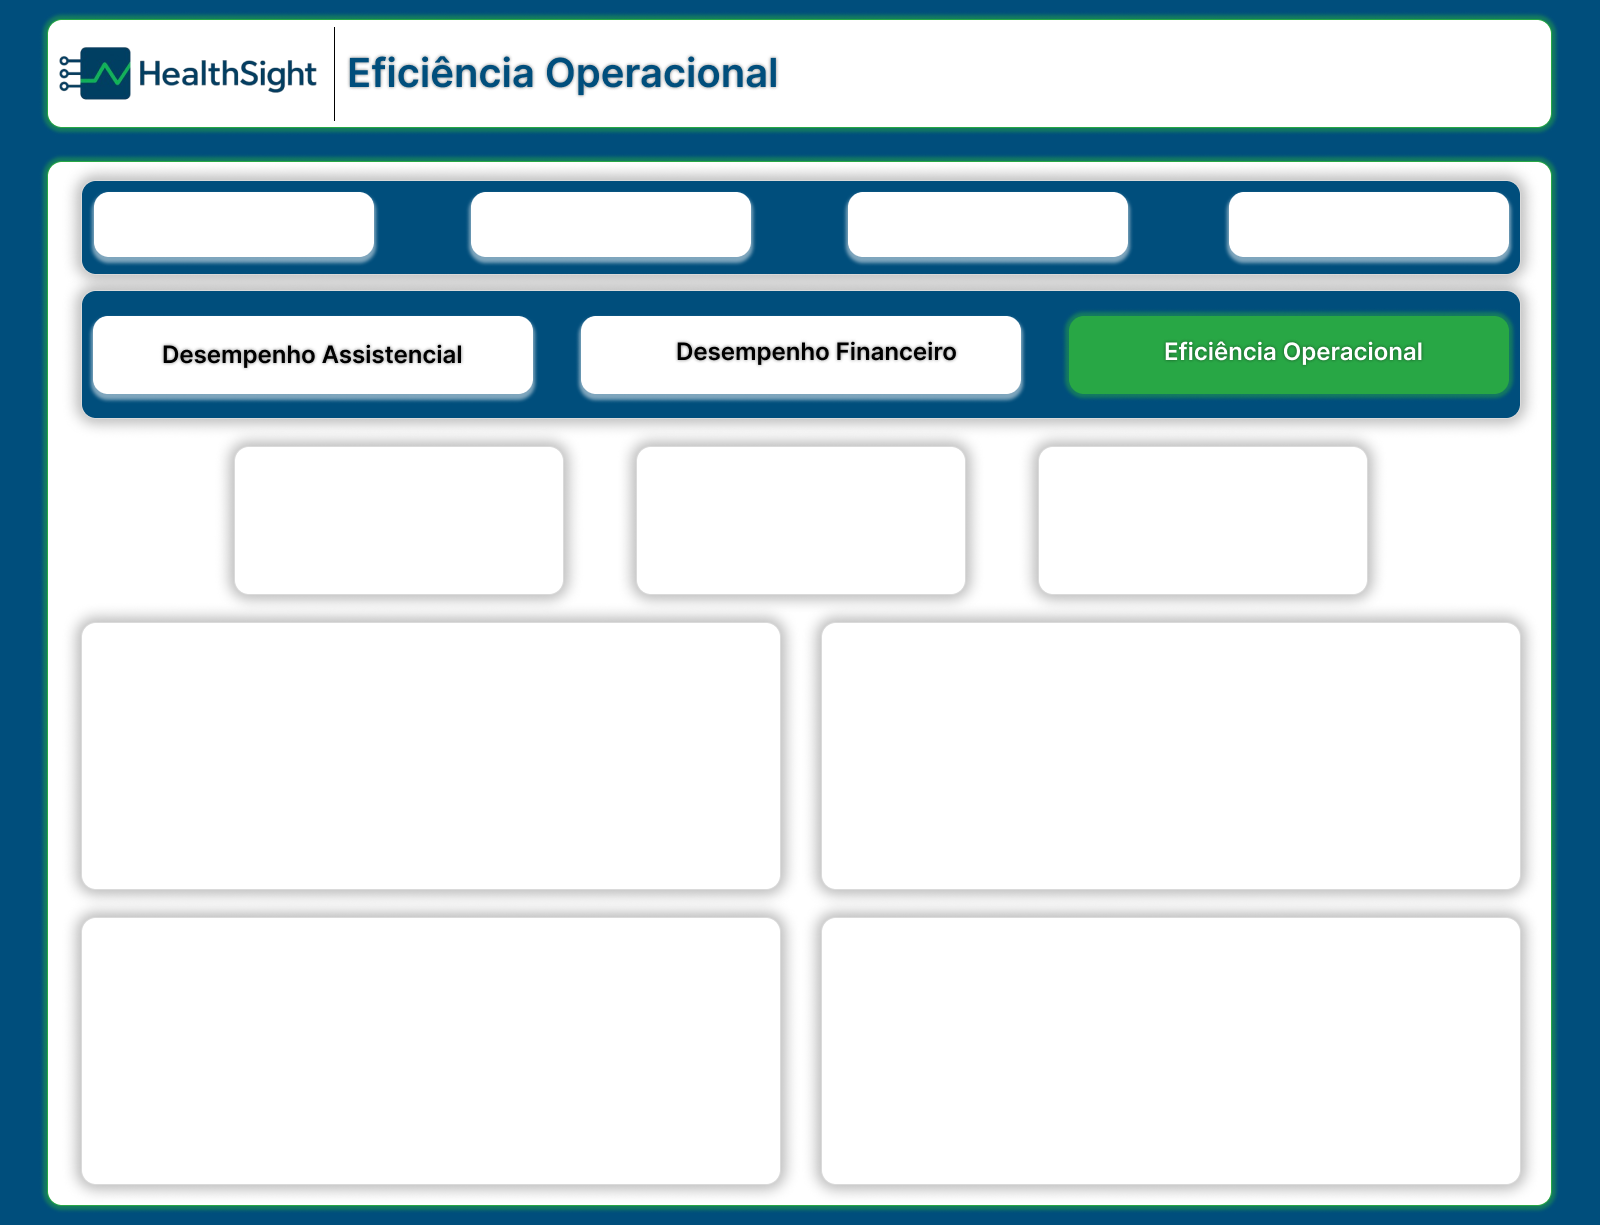

The dashboard page shown, as its layout file describes it:
{"tool":"powerbi","page":{"name":"Eficiência Operacional","canvas":[1600,1225],"ordinal":2},"visuals":[{"type":"slicer","title":"Ano","fields":{"Values":["dim_tempo.data_ref.Variation.Hierarquia de datas.Ano"]},"box":[95,190,280,63.3],"z":0},{"type":"slicer","title":"Tipo de Unidade","fields":{"Values":["dim_setor.tipo_unidade"]},"box":[470,190,280,63.3],"z":1000},{"type":"slicer","title":"Especialidade","fields":{"Values":["dim_medico.especialidade"]},"box":[1228.3,190,281.7,63.3],"z":2000},{"type":"card","title":"Número de Atendimentos","fields":{"Values":["fato_atendimentos.Nº de Atendimentos"]},"box":[235,445,328.3,150],"z":3000},{"type":"card","title":"Tempo Médio de Espera (min)","fields":{"Values":["fato_atendimentos.Tempo Médio de Espera (min)"]},"box":[635,445,330,148.3],"z":4000},{"type":"card","title":"Eficiência de Atendimentos","fields":{"Values":["fato_atendimentos.Eficiência de Atendimentos (%)"]},"box":[1033.3,443.3,336.7,150],"z":5000},{"type":"barChart","title":"Número de atendimentos por médico","fields":{"Category":["dim_medico.nome"],"Y":["fato_atendimentos.Atendimentos por Médico"]},"box":[76.7,620,708.3,271.7],"z":6000},{"type":"lineChart","title":"Volume de Atendimentos por Mês","fields":{"Category":["fato_atendimentos.data_atendimento.Variation.Hierarquia de datas.Mês"],"Y":["fato_atendimentos.Atendimentos Mensais"]},"box":[80,915,705,268.3],"z":7000},{"type":"clusteredColumnChart","title":"Tempo Médio de Espera","fields":{"Y":["fato_atendimentos.Tempo Médio de Espera (min)"],"Category":["dim_tempo.data_ref.Variation.Hierarquia de datas.Mês"]},"box":[821.7,915,698.3,268.3],"z":8000},{"type":"barChart","title":"Eficiência de atendimento por médico","fields":{"Category":["dim_medico.nome"],"Y":["fato_atendimentos.Eficiência por Médico (%)"]},"box":[821.7,620,698.3,271.7],"z":9000},{"type":"slicer","title":"Tipo de Convênio","fields":{"Values":["dim_convenio.tipo_convênio"]},"box":[848.3,190,280,65],"z":10000},{"type":"pageNavigator","box":[91.7,310,1418.3,81.7],"z":11000}]}

Visuals, with their boxes in screenshot pixels (x1, y1, x2, y2), scaled from the page's 1600x1225 canvas onto the 1600x1225 screenshot:
"Ano" slicer: bbox=(95, 190, 375, 253)
"Tipo de Unidade" slicer: bbox=(470, 190, 750, 253)
"Especialidade" slicer: bbox=(1228, 190, 1510, 253)
"Número de Atendimentos" card: bbox=(235, 445, 563, 595)
"Tempo Médio de Espera (min)" card: bbox=(635, 445, 965, 593)
"Eficiência de Atendimentos" card: bbox=(1033, 443, 1370, 593)
"Número de atendimentos por médico" barChart: bbox=(77, 620, 785, 892)
"Volume de Atendimentos por Mês" lineChart: bbox=(80, 915, 785, 1183)
"Tempo Médio de Espera" clusteredColumnChart: bbox=(822, 915, 1520, 1183)
"Eficiência de atendimento por médico" barChart: bbox=(822, 620, 1520, 892)
"Tipo de Convênio" slicer: bbox=(848, 190, 1128, 255)
pageNavigator: bbox=(92, 310, 1510, 392)
